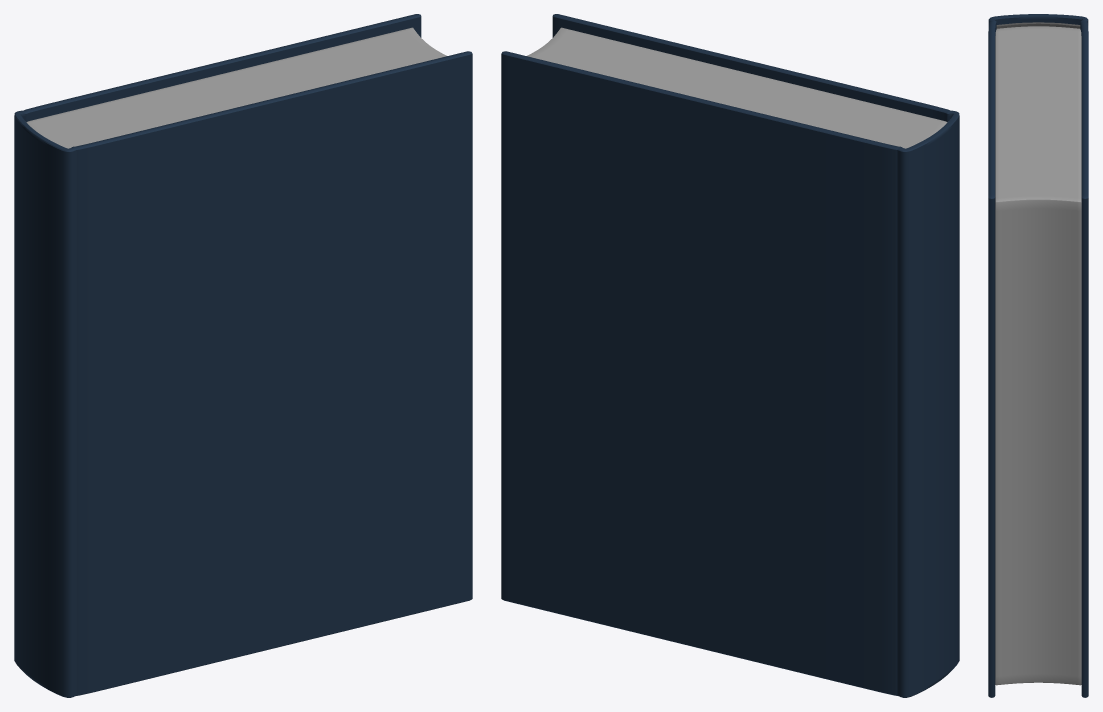
File: book.fbx
The picture shows the model from 3 angles, left to right: view 1: azimuth 30°, elevation 25°; view 2: azimuth 150°, elevation 25°; view 3: azimuth 270°, elevation 25°; orthographic projection. The views are drawn at different scales.
Visible parts, largest first — view 1: cover_cover, pages_pages; view 2: cover_cover, pages_pages; view 3: pages_pages, cover_cover, binding_binding.
Boxes of the visible parts, box(x1,y1,x2,y2) form: cover_cover: box(14, 14, 472, 697); pages_pages: box(26, 27, 446, 148); cover_cover: box(501, 14, 959, 697); pages_pages: box(527, 27, 947, 148); pages_pages: box(995, 26, 1081, 685); cover_cover: box(988, 14, 1088, 697); binding_binding: box(996, 22, 1080, 28).
Bounding box in the file's own units: 2.13 × 2.69 × 0.4886.
